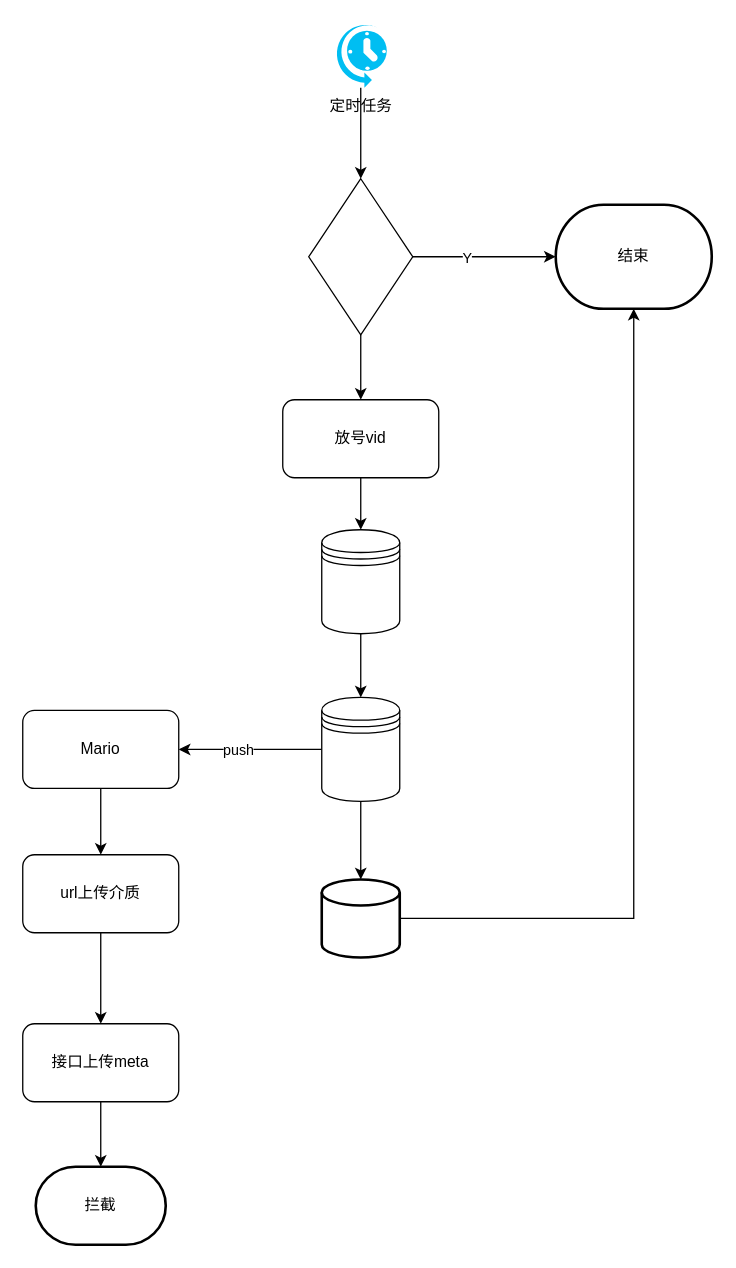
Some shapes in this 736 by 1268 pixel diagram are drawn without their labels. Each missing label, with the centre of its shape:
"db状态 检查wscid是否已经处理了" goes at (360,256).
"video_material" goes at (360,748).
"wsc" goes at (360,581).
"更新wsc" goes at (360,918).
